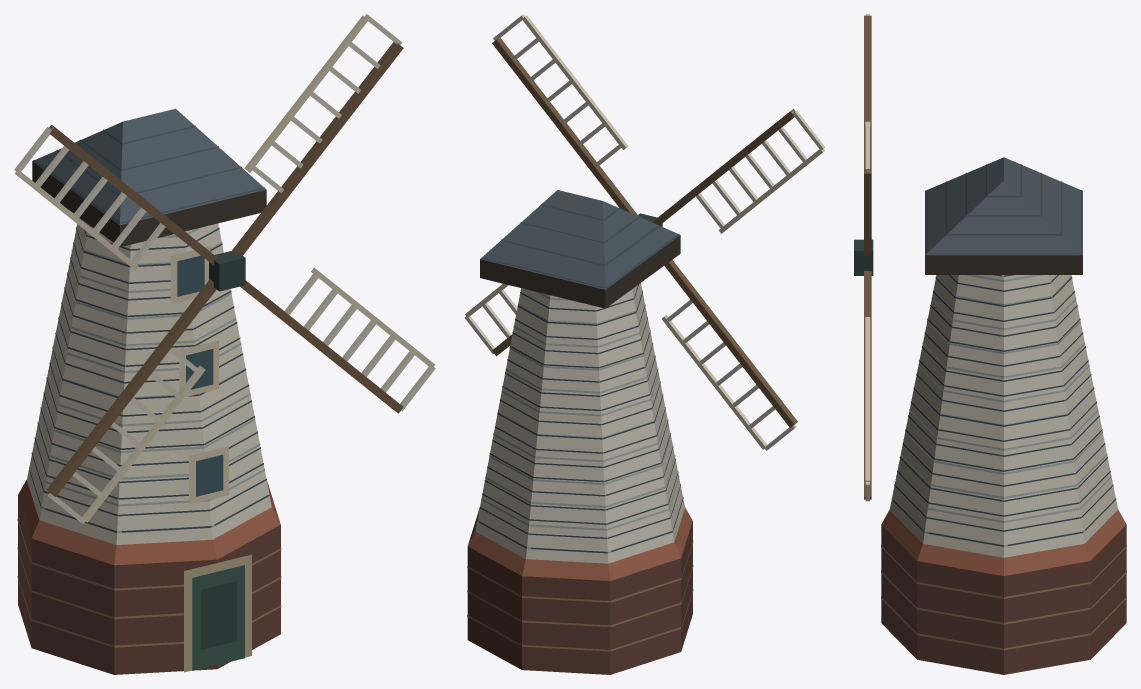
Rendered from 05-smock-windmill.glb.
3 views of the same model, side by side, from view 1: azimuth 30°, elevation 25°; view 2: azimuth 150°, elevation 25°; view 3: azimuth 270°, elevation 25° (orthographic). The views are drawn at different scales.
Visible parts, largest first — view 1: Kentish smock windmill; view 2: Kentish smock windmill; view 3: Kentish smock windmill.
Part boxes in pixels (bbox=[...]): Kentish smock windmill: bbox=[14, 14, 435, 674]; Kentish smock windmill: bbox=[464, 14, 825, 674]; Kentish smock windmill: bbox=[854, 14, 1126, 674].
Bounding box in the file's own units: 0.8004 × 1.14 × 0.5006.
